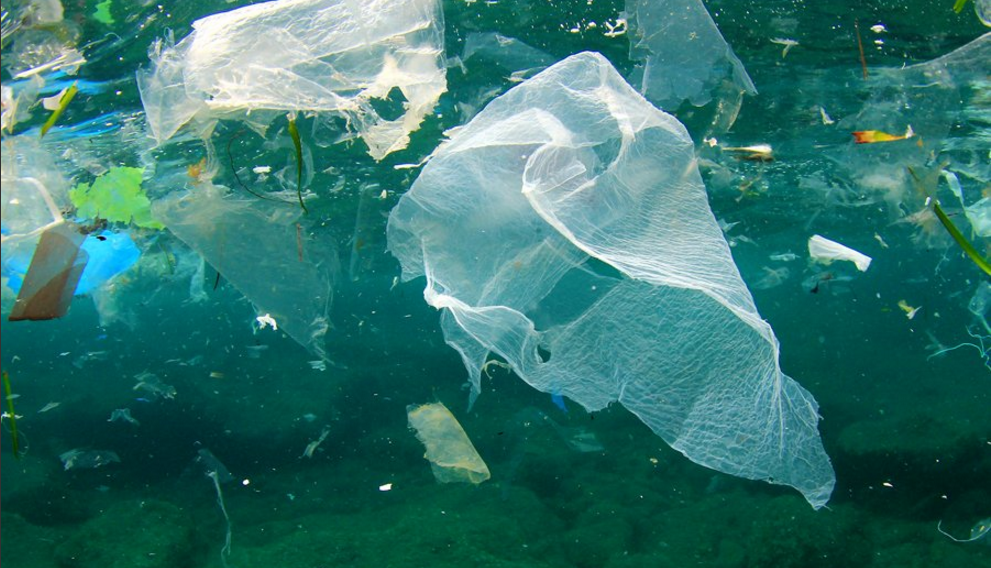plastic_bagwdw: (352, 28, 882, 560)
